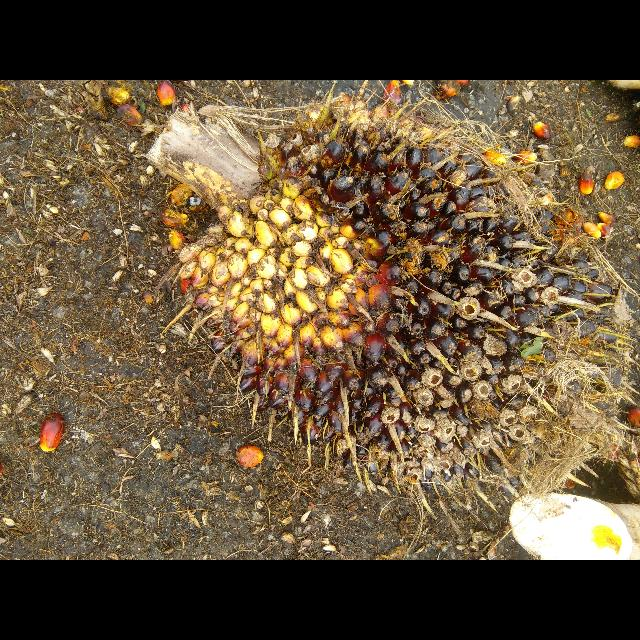Unripe: (153, 80, 640, 503)
